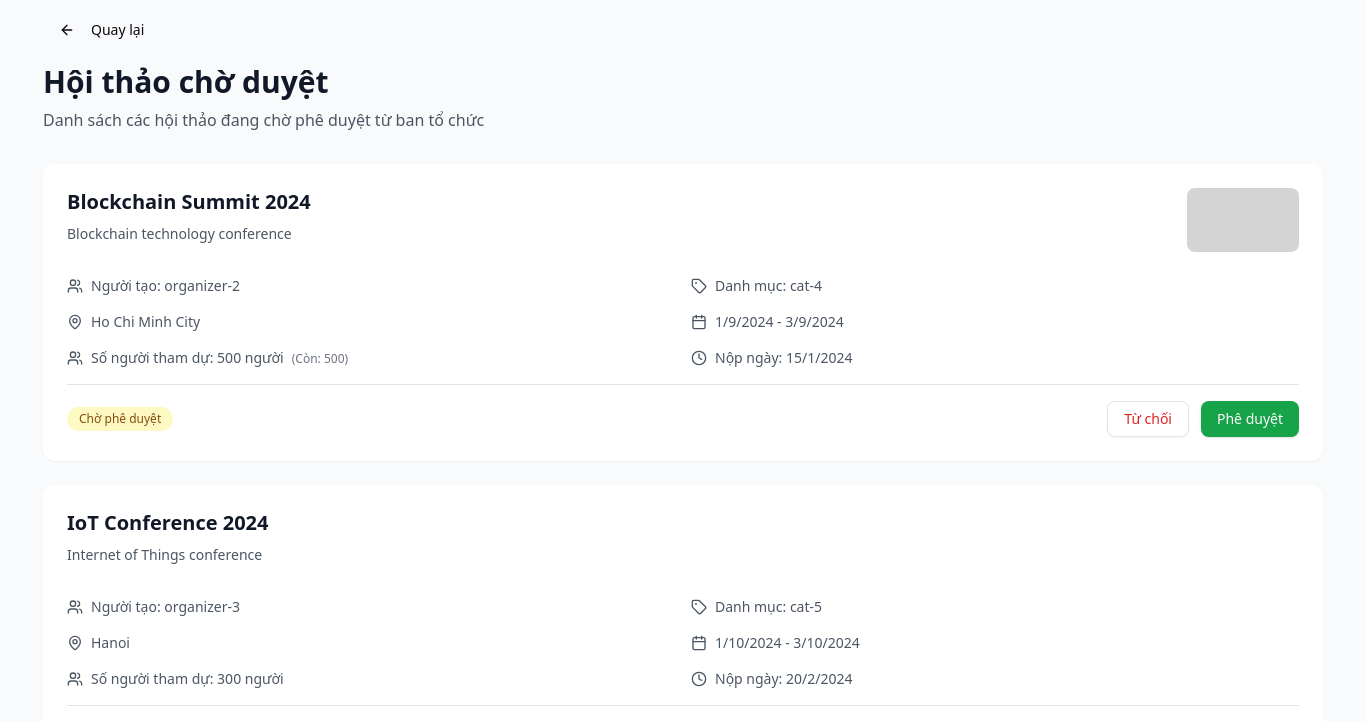
PendingConference Component › opens approve dialog when approve button is clicked
Click the 1st button "Phê duyệt" at (1250, 419), box [1201,401,1299,437]
(page scrolled)
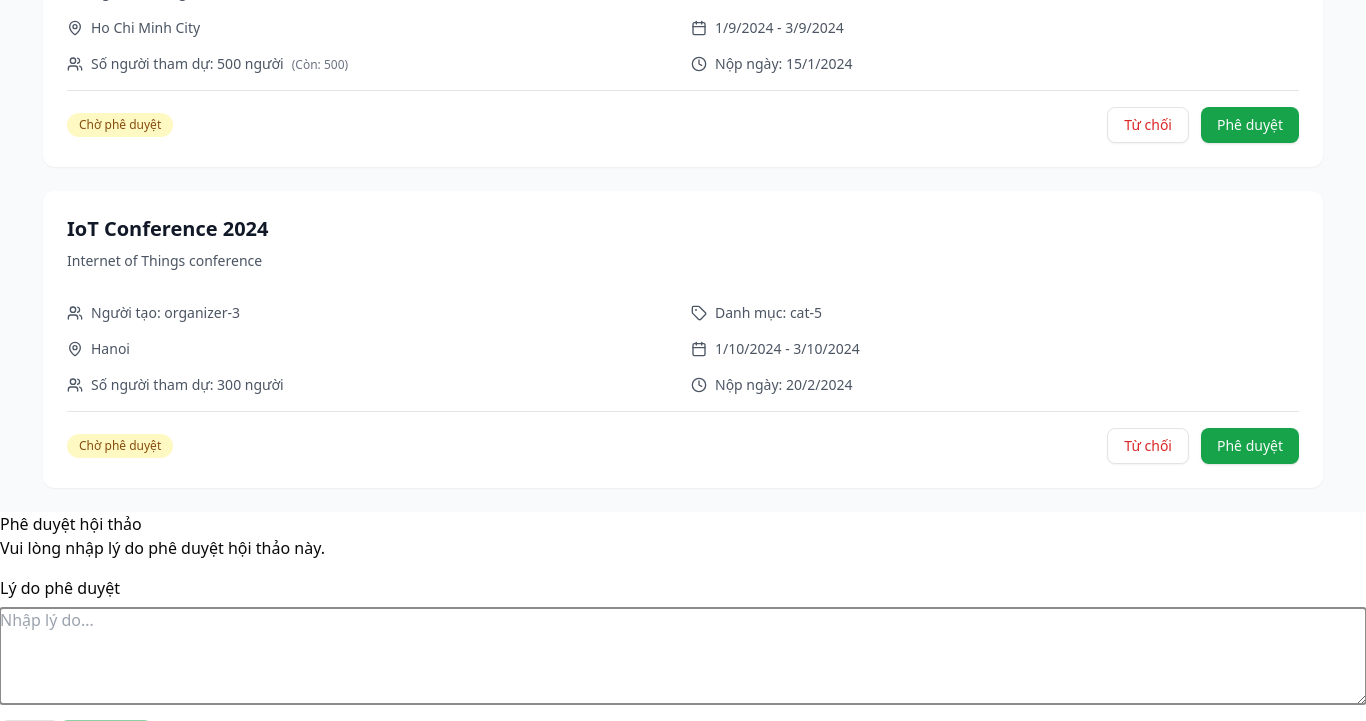
Expected: the heading "Phê duyệt hội thảo" is shown, [0,513,142,535]
